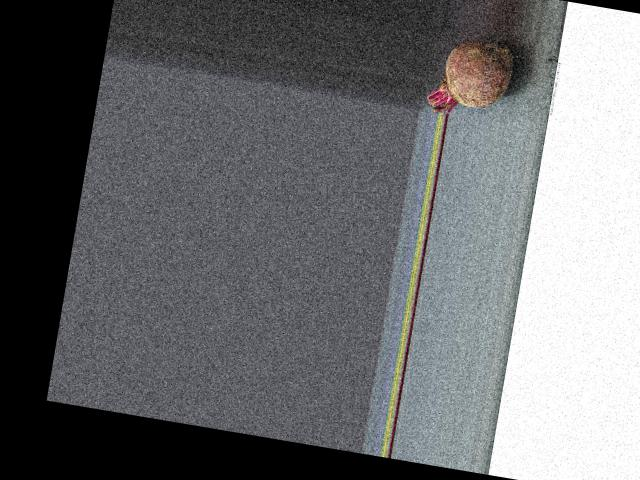beet: (425, 32, 516, 124)
